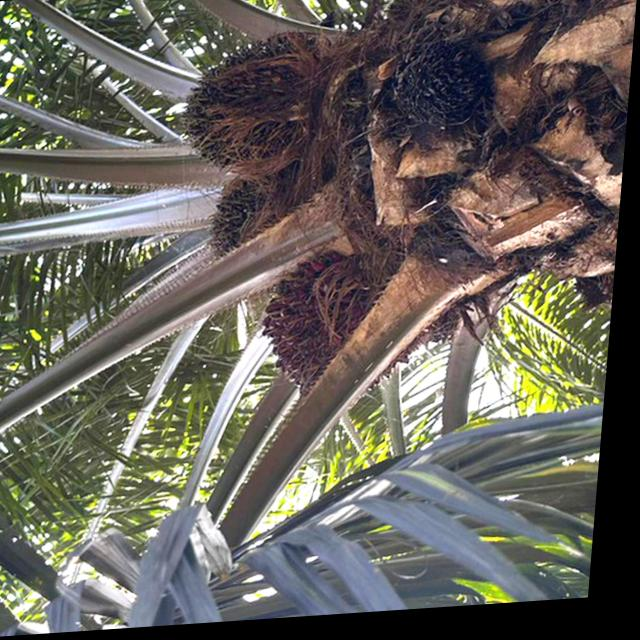ripe: (173, 29, 321, 188), (253, 251, 365, 400), (199, 176, 289, 266)
